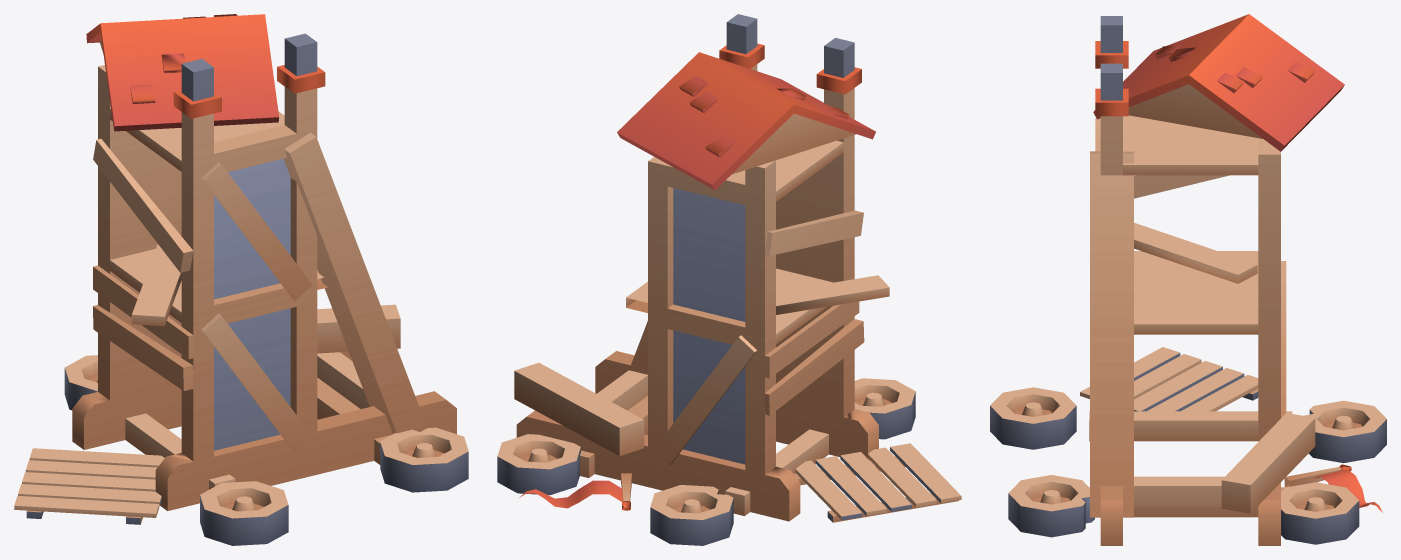
File: siege-tower-demolished.fbx
3 views of the same model, side by side, from view 1: azimuth 30°, elevation 25°; view 2: azimuth 150°, elevation 25°; view 3: azimuth 270°, elevation 25° (orthographic). The views are drawn at different scales.
Parts seen in each view (by area): view 1: siege-tower-demolished; view 2: siege-tower-demolished; view 3: siege-tower-demolished.
Boxes of the visible parts, x1=… form: siege-tower-demolished: x1=14, y1=14, x2=468, y2=545; siege-tower-demolished: x1=497, y1=14, x2=961, y2=545; siege-tower-demolished: x1=990, y1=14, x2=1386, y2=545.
Bounding box in the file's own units: 2.17 × 1.85 × 2.1.
